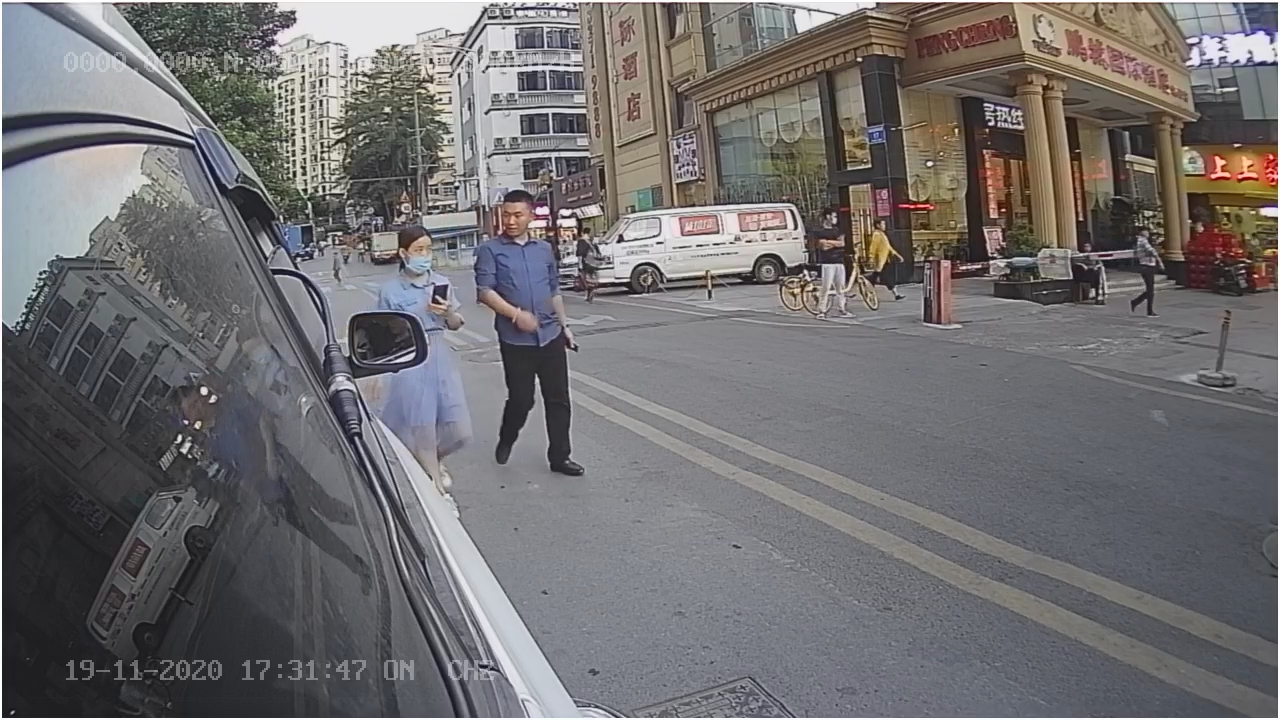person: (475, 191, 596, 466)
